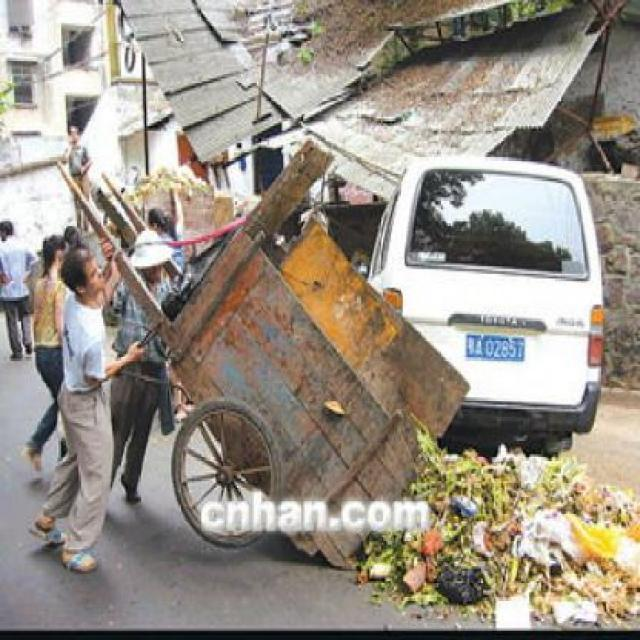garbage: (437, 500, 638, 628), (400, 405, 580, 492), (366, 540, 432, 607)
